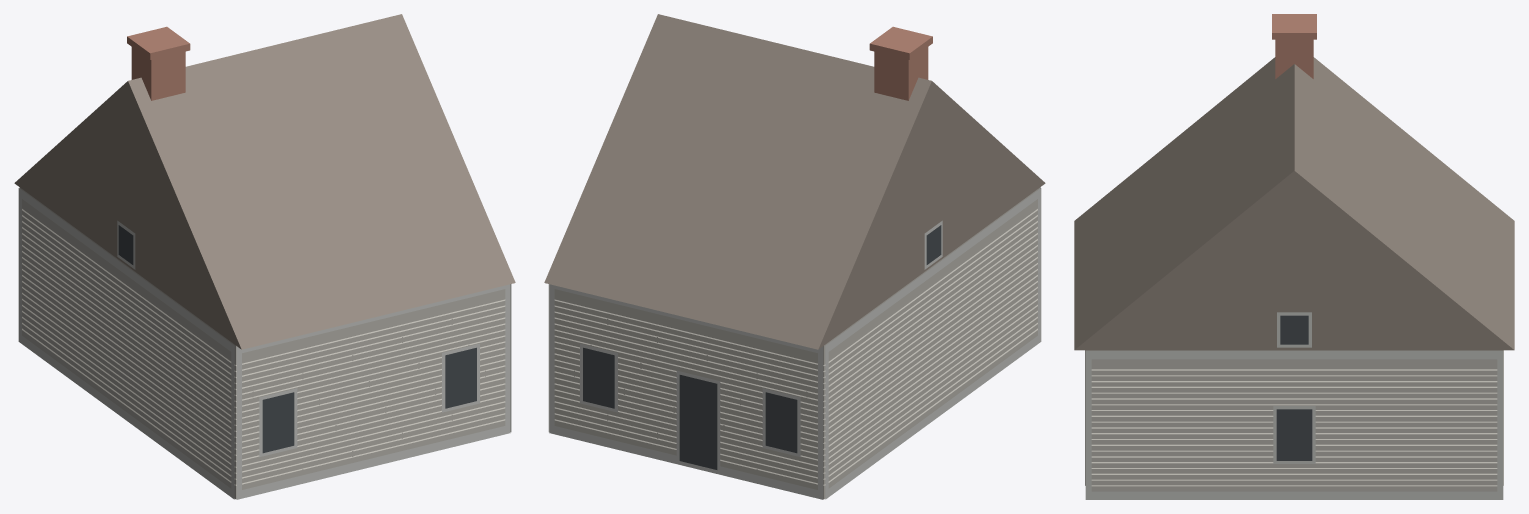
File: recon_1835_north_d6_021__inferred_1835.glb
3 renders of one model, left to right at view 1: azimuth 30°, elevation 25°; view 2: azimuth 150°, elevation 25°; view 3: azimuth 270°, elevation 25°, orthographic. The views are drawn at different scales.
Visible parts, largest first — view 1: recon_1835_north_d6_021__inferred_1835; view 2: recon_1835_north_d6_021__inferred_1835; view 3: recon_1835_north_d6_021__inferred_1835.
Boxes of the visible parts, x1,y1,x2,y2 form: recon_1835_north_d6_021__inferred_1835: (14, 14, 515, 499); recon_1835_north_d6_021__inferred_1835: (544, 14, 1045, 499); recon_1835_north_d6_021__inferred_1835: (1074, 14, 1514, 499).
Bounding box in the file's own units: 6.8 × 8.72 × 9.64.
